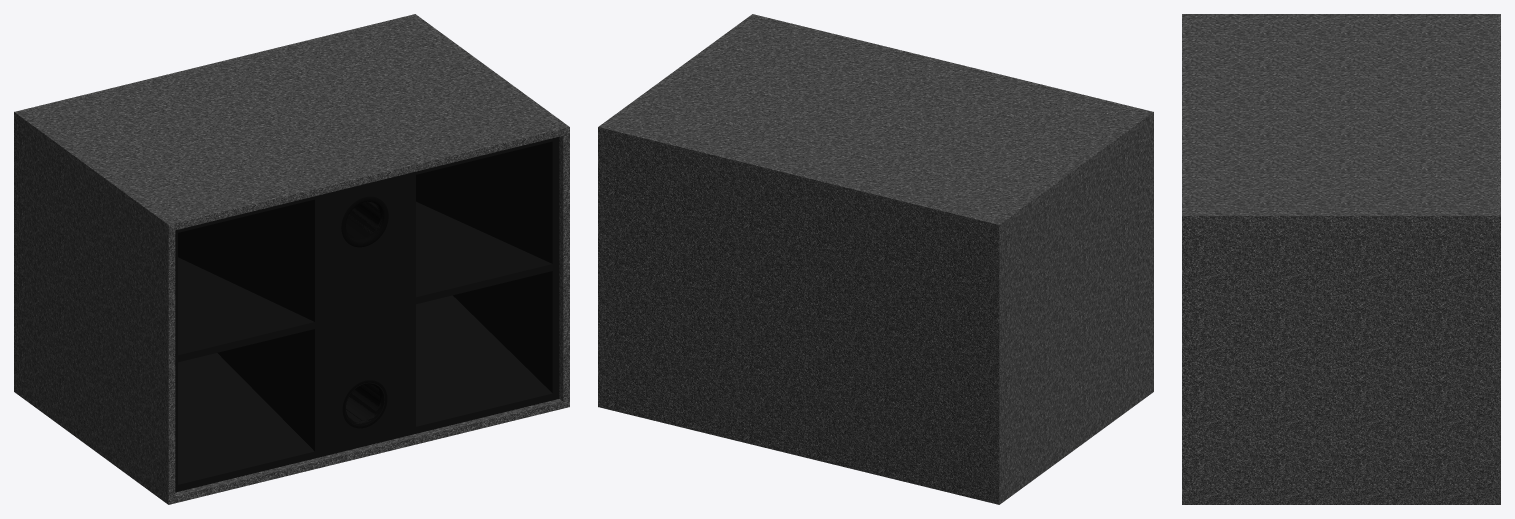
File: subwoofer.glb
The picture shows the model from 3 angles, left to right: view 1: azimuth 30°, elevation 25°; view 2: azimuth 150°, elevation 25°; view 3: azimuth 270°, elevation 25°; orthographic projection. The views are drawn at different scales.
Parts seen in each view (by area): view 1: Main Box_1, Cutter.001_0, Top Flange_3; view 2: Main Box_1; view 3: Main Box_1.
Part boxes in pixels (box(x1,y1,x2,y2)): Main Box_1: box(14, 14, 569, 504); Cutter.001_0: box(346, 201, 384, 425); Top Flange_3: box(341, 196, 388, 247); Main Box_1: box(598, 14, 1153, 504); Main Box_1: box(1182, 14, 1500, 504).
Size of the model in its own units: 8.49 by 5.66 by 5.66.
4 materials, 1 textured.
